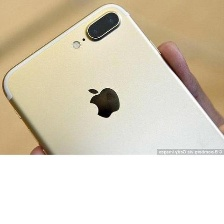phone: (0, 0, 223, 216)
